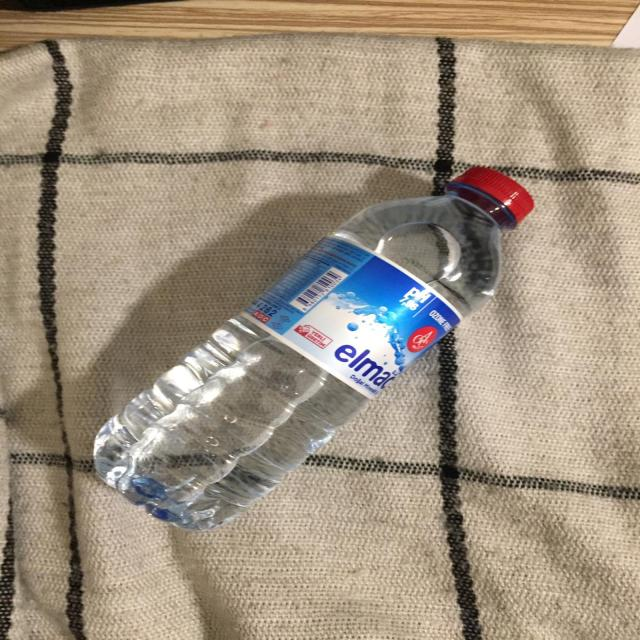bottle: (95, 159, 539, 531)
